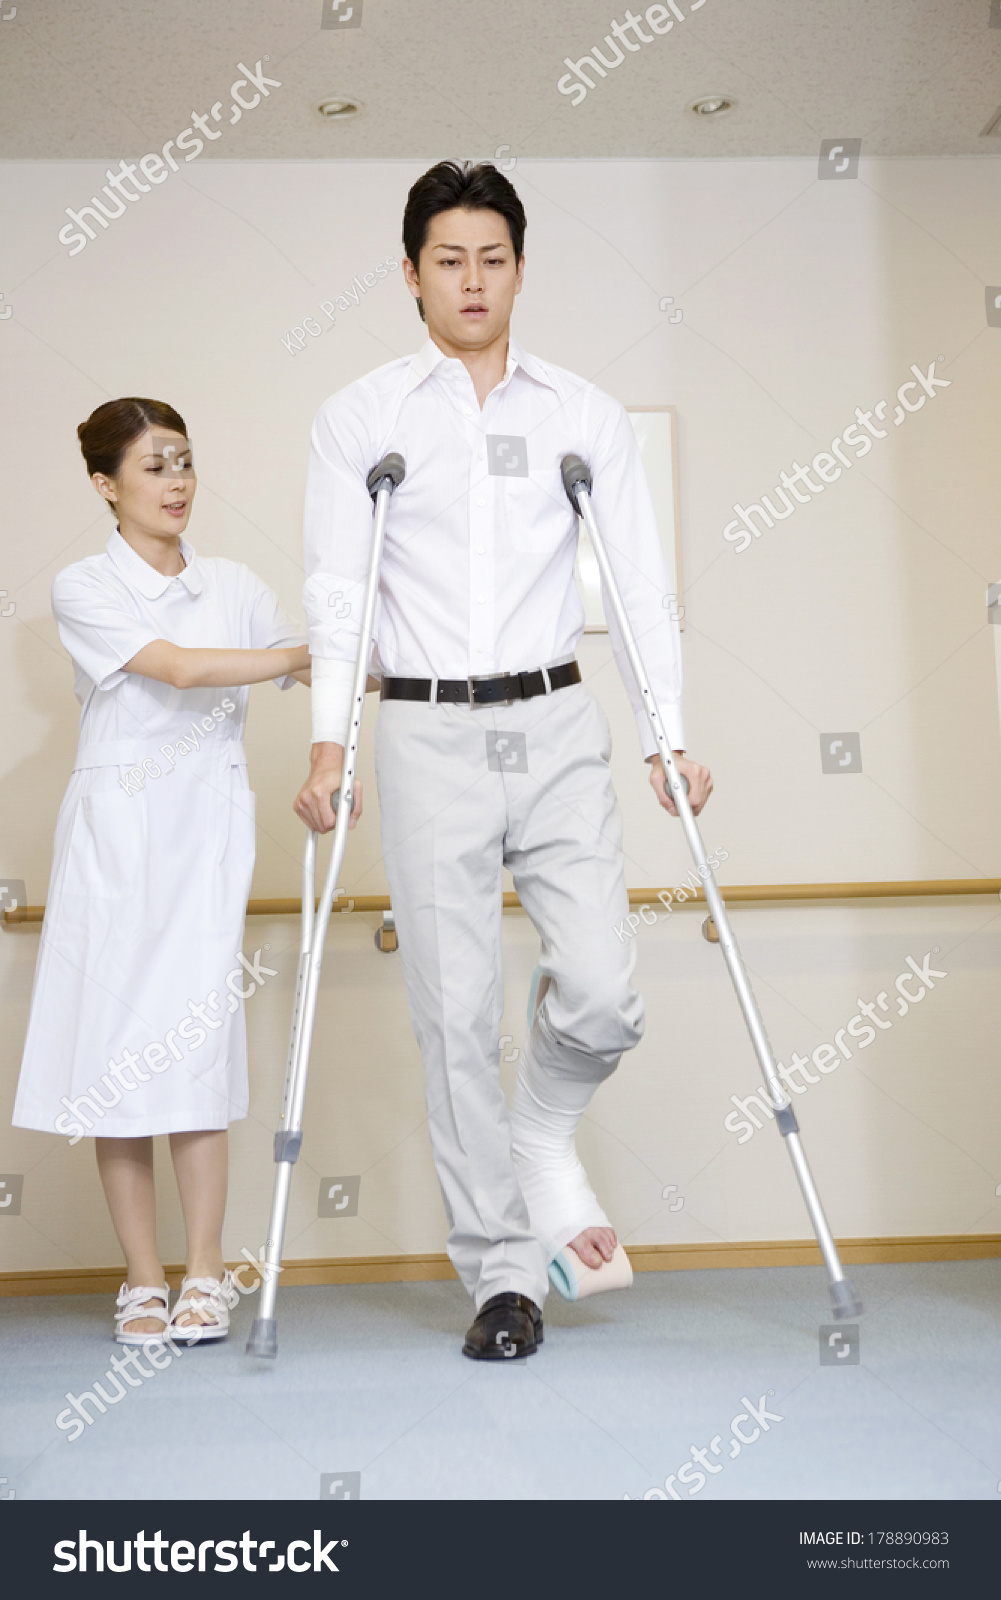crutches: (240, 160, 867, 1364)
